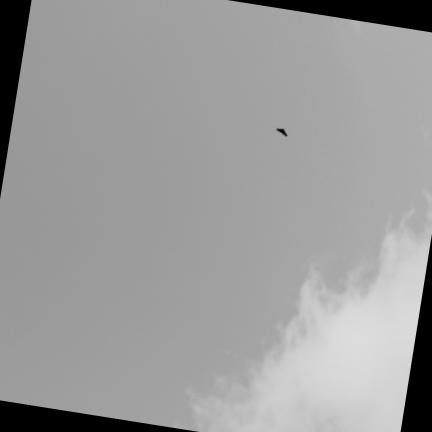Shahed: (276, 128, 287, 136)
